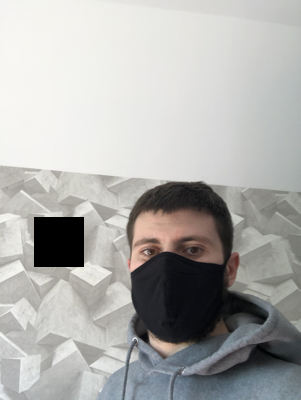with_mask: (131, 224, 227, 346)
